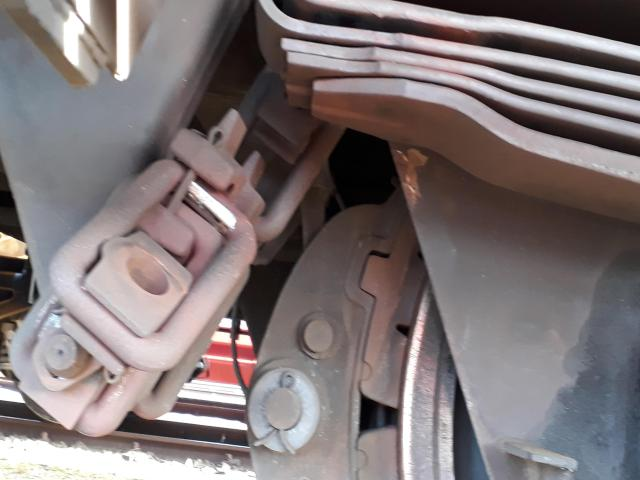blattfederww: (231, 11, 640, 193)
